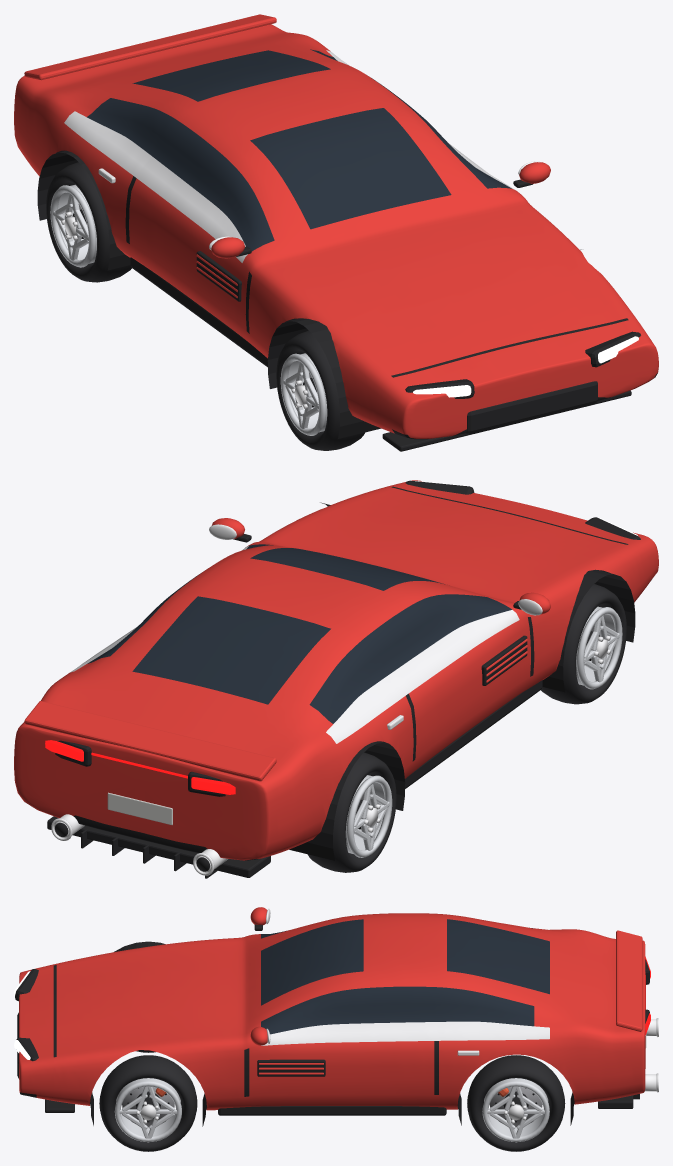
File: aurum_mid.glb
3 renders of one model, top to bottom at view 1: azimuth 30°, elevation 25°; view 2: azimuth 150°, elevation 25°; view 3: azimuth 270°, elevation 25°, orthographic. The views are drawn at different scales.
Visible parts, largest first — view 1: body, wheel_fr, wheel_rr; view 2: body, wheel_rr, wheel_fr; view 3: body, wheel_rl, wheel_fl.
Part boxes in pixels (x1,y1,x2,y2): body: [14, 14, 658, 451]; wheel_fr: [276, 330, 364, 450]; wheel_rr: [46, 162, 131, 282]; body: [14, 480, 658, 878]; wheel_rr: [308, 752, 396, 872]; wheel_fr: [541, 584, 626, 704]; body: [14, 907, 658, 1126]; wheel_rl: [467, 1055, 565, 1151]; wheel_fl: [99, 1055, 197, 1151].
Bounding box in the file's own units: 2.29 × 1.27 × 4.74.
